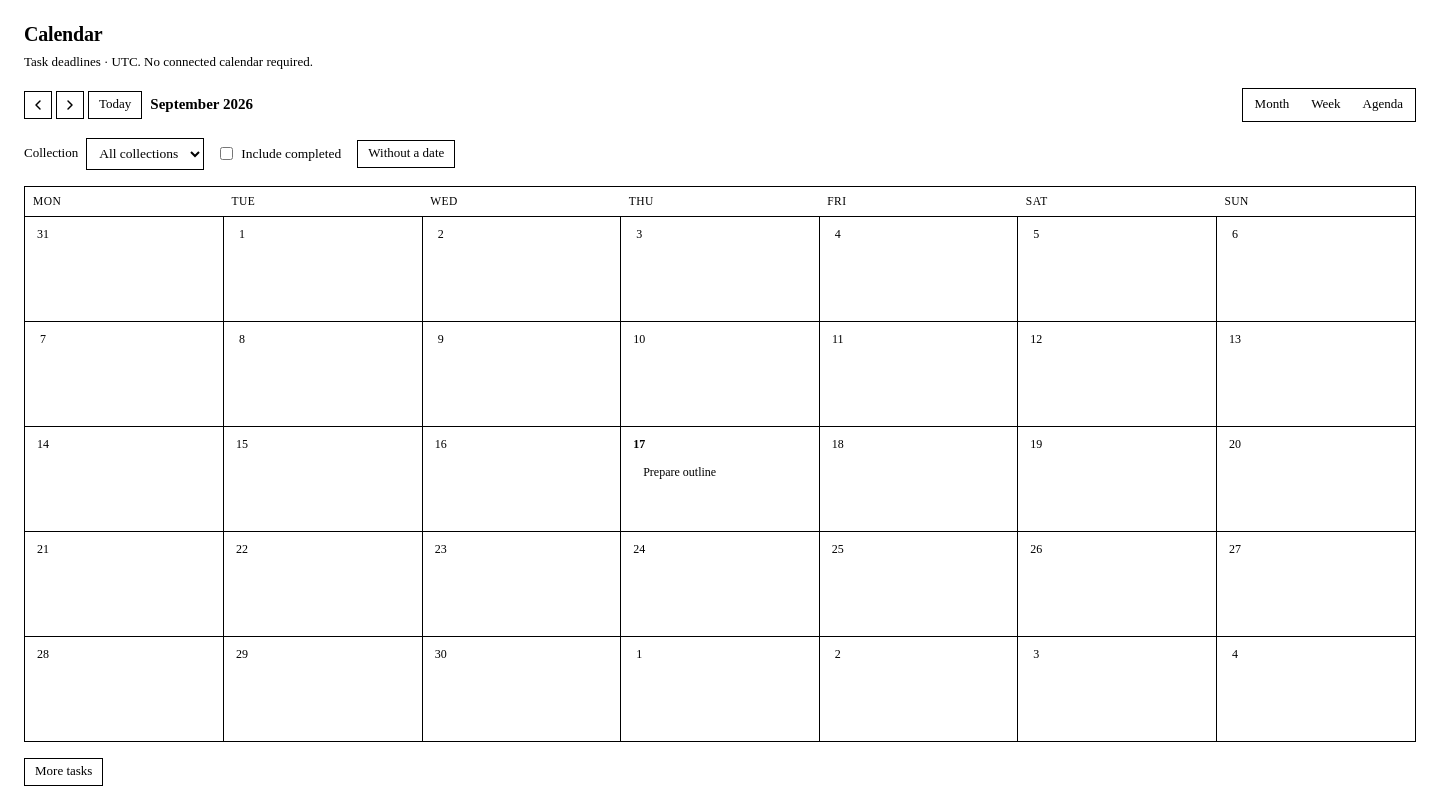
Scenario: deadline calendar › keeps the pages already read when another page of the same range is asked for
Expected: the link "Prepare outline" is shown, [643,465,716,479]
Click the button "More tasks".
click(64, 772)  # box [24,758,103,786]
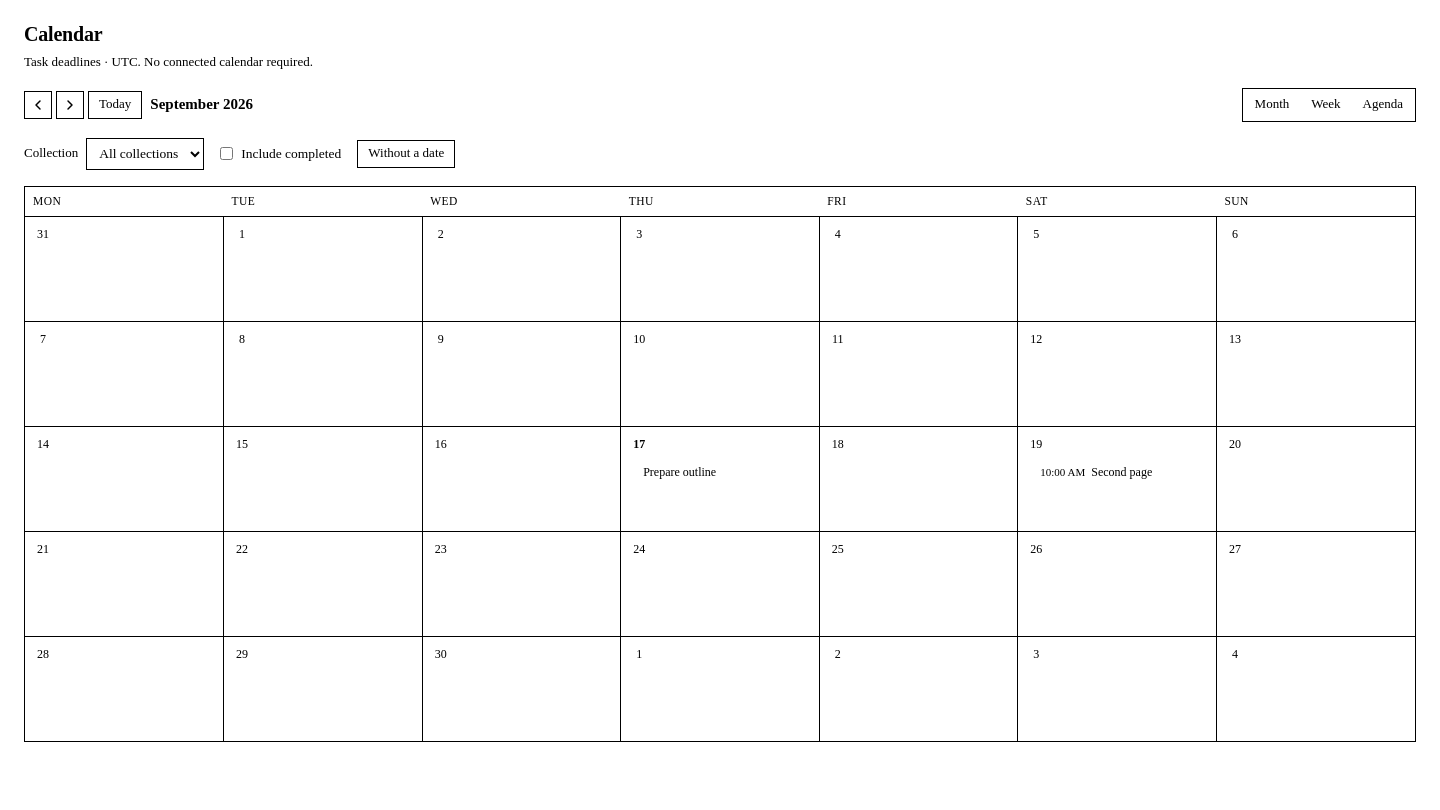
Expected: the link "Prepare outline" is shown, [643,465,716,479]
Result: the link "10:00 AM Second page" is shown at [1040,465,1152,479]
Result: the button "More tasks" is gone
